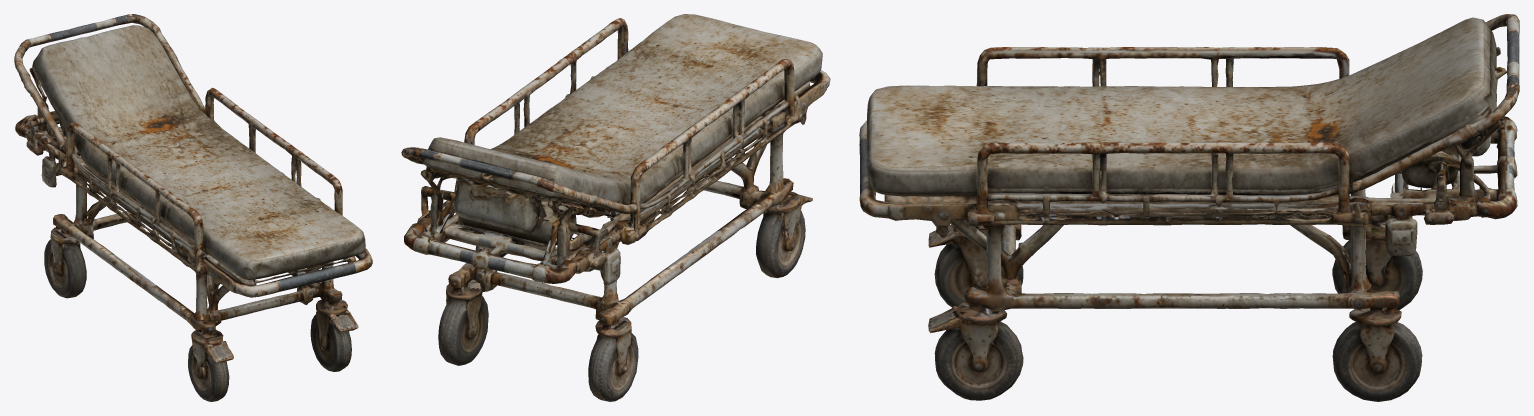
Rendered from Gurney.fbx.
3 views of the same model, side by side, from view 1: azimuth 30°, elevation 25°; view 2: azimuth 150°, elevation 25°; view 3: azimuth 270°, elevation 25° (orthographic). The views are drawn at different scales.
Parts seen in each view (by area): view 1: texture_mapping; view 2: texture_mapping; view 3: texture_mapping.
Part boxes in pixels (bbox=[...]): texture_mapping: bbox=[14, 14, 372, 401]; texture_mapping: bbox=[401, 14, 830, 401]; texture_mapping: bbox=[859, 14, 1519, 401].
Size of the model in its own units: 0.3792 by 1 by 0.5134.
1 material, 1 textured.
